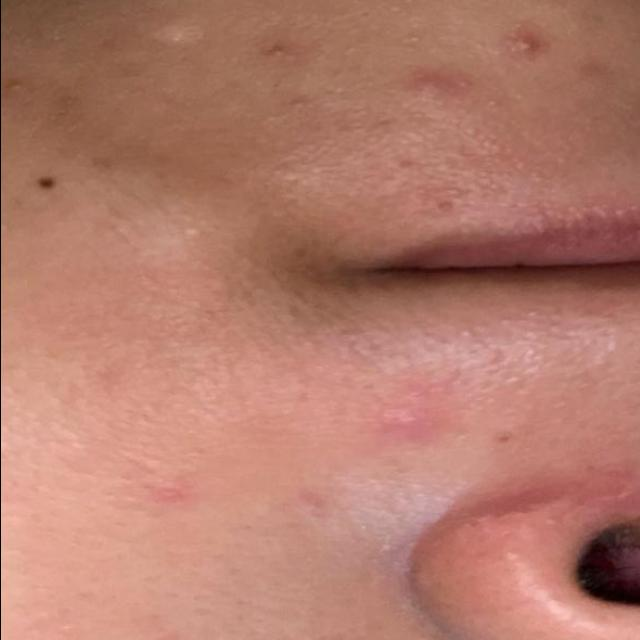papule: (354, 56, 467, 146), (352, 391, 458, 472)
pustule: (498, 23, 547, 79)
